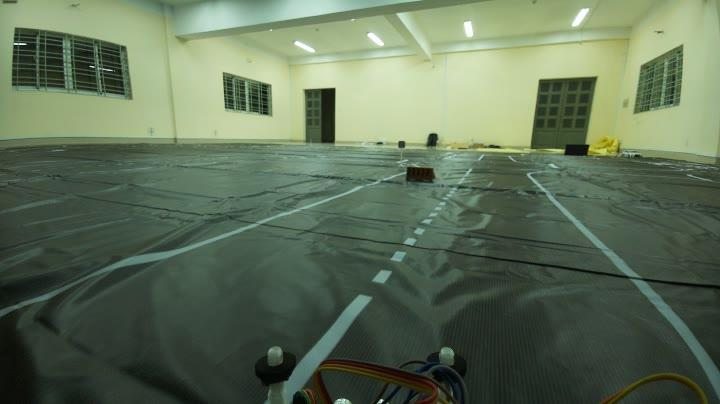roadblock: (402, 163, 440, 187)
